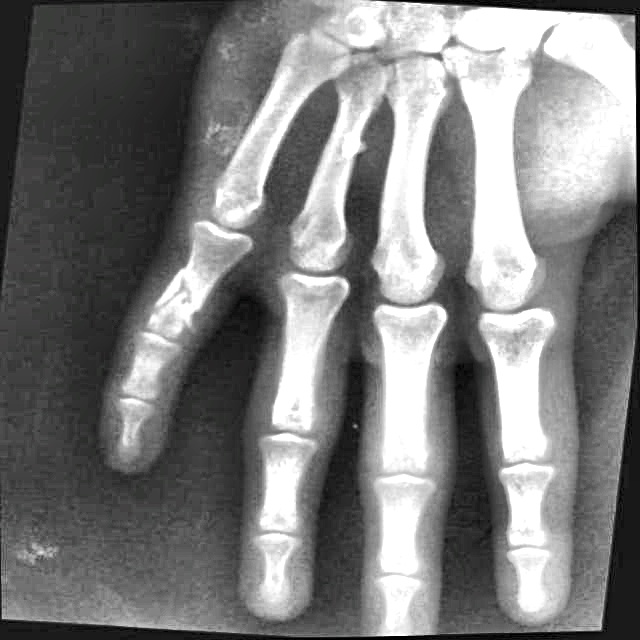Comminuted: (129, 268, 214, 350)
